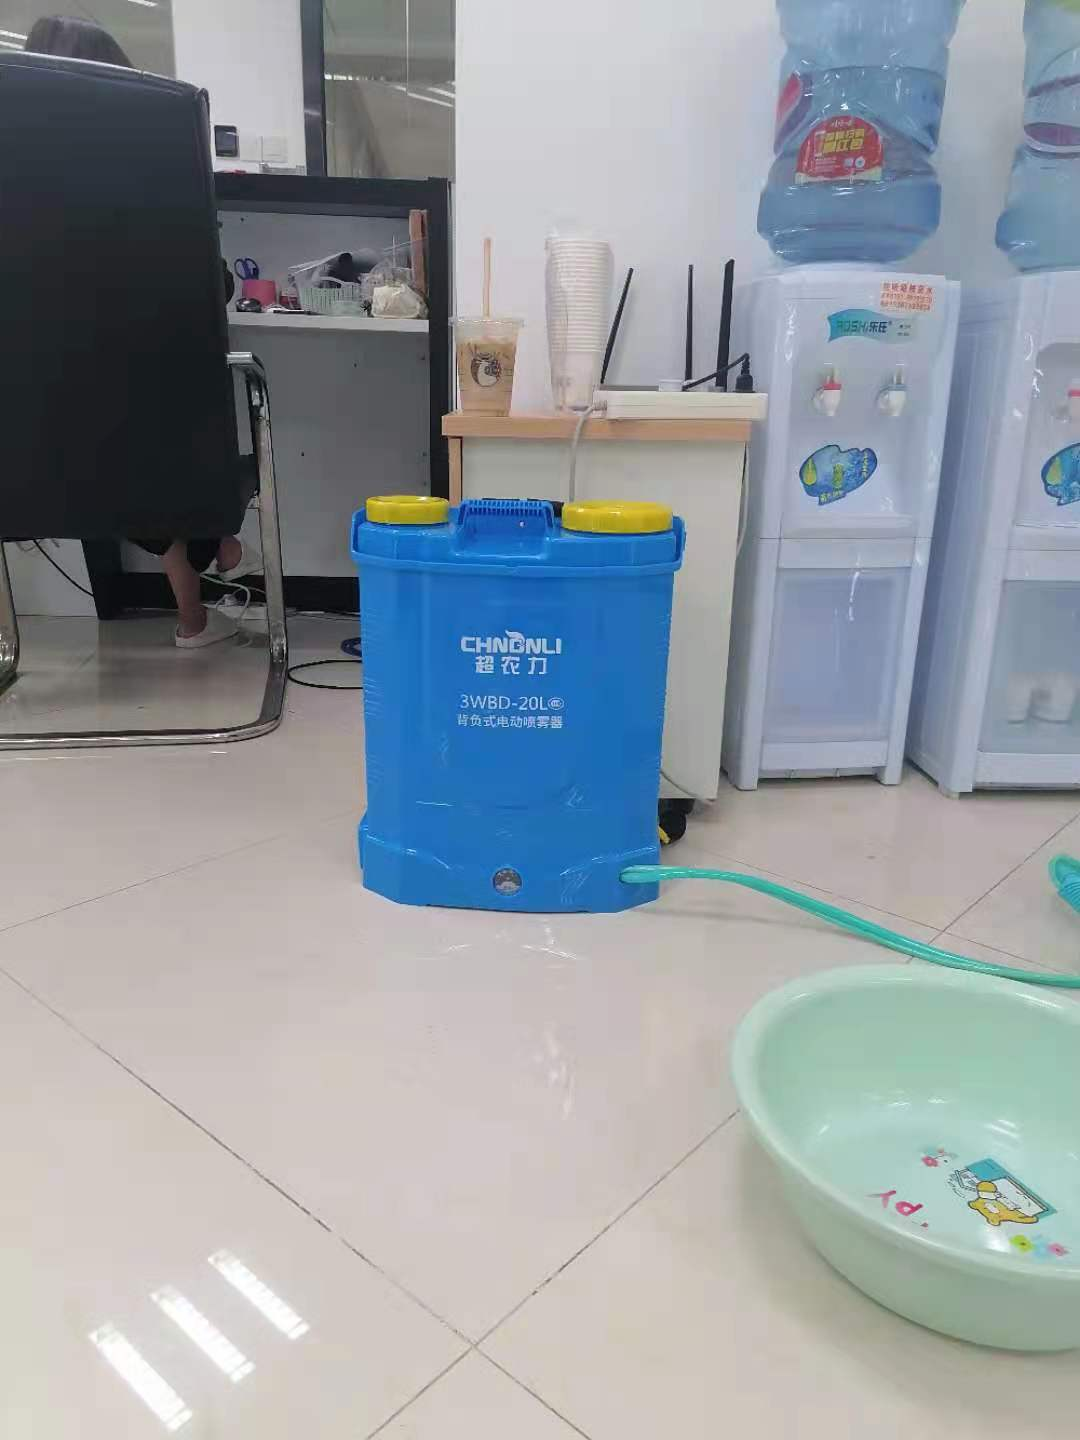berrl: (340, 492, 700, 918)
